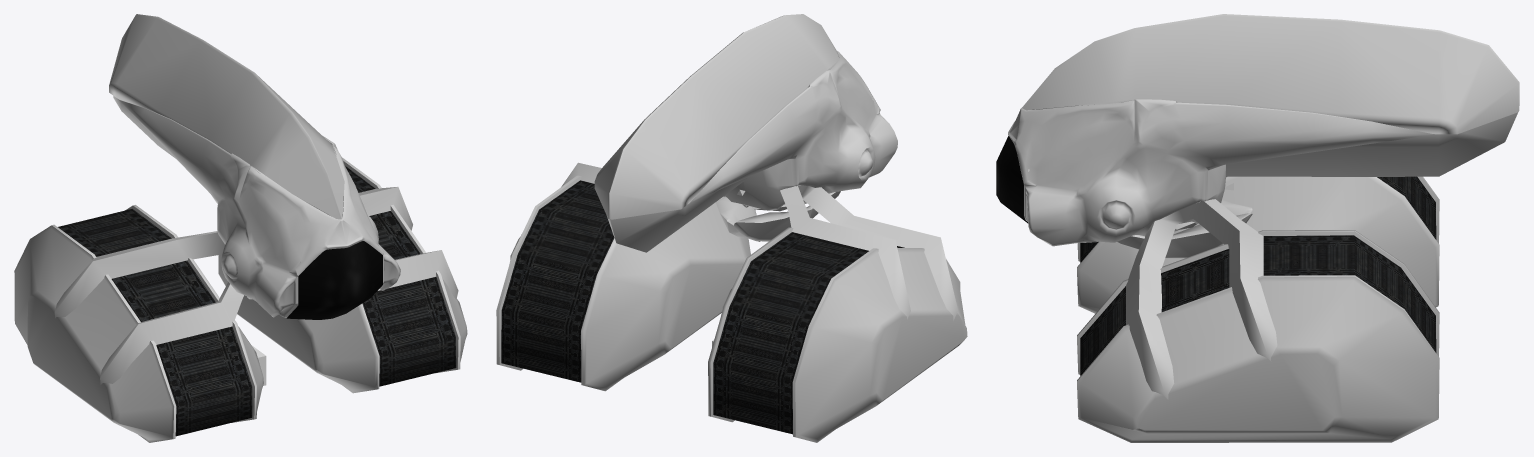
Rendered from fvscav00.fbx.
3 renders of one model, left to right at view 1: azimuth 30°, elevation 25°; view 2: azimuth 150°, elevation 25°; view 3: azimuth 270°, elevation 25°, orthographic. The views are drawn at different scales.
Visible parts, largest first — view 1: tread_r, skel_FLUID_Top1, main_body, tractor_r, tread_l, tractor_l, cockpit; view 2: tread_r, skel_FLUID_Top1, tread_l, tractor_r, main_body, tractor_l, fvscav_skel_FLUID_SACK2_3, Front_Pincer_r, Front_Pincer_l; view 3: tread_l, skel_FLUID_Top1, main_body, tread_r, tractor_l, fvscav_skel_FLUID_SACK2_3, cockpit, Front_Pincer_l, tractor_r.
Boxes of the visible parts, <box> form: tread_r: <box>14,205,263,442</box>; skel_FLUID_Top1: <box>109,14,344,219</box>; main_body: <box>119,100,400,317</box>; tractor_r: <box>58,208,252,436</box>; tread_l: <box>218,157,467,393</box>; tractor_l: <box>345,166,456,386</box>; cockpit: <box>286,241,382,319</box>; tread_r: <box>708,185,967,442</box>; skel_FLUID_Top1: <box>594,14,839,219</box>; tread_l: <box>496,162,750,391</box>; tractor_r: <box>713,232,904,434</box>; main_body: <box>692,51,897,210</box>; tractor_l: <box>501,180,614,382</box>; fvscav_skel_FLUID_SACK2_3: <box>607,177,747,252</box>; Front_Pincer_r: <box>734,191,840,241</box>; Front_Pincer_l: <box>715,196,760,241</box>; tread_l: <box>1077,199,1439,442</box>; skel_FLUID_Top1: <box>1022,14,1519,134</box>; main_body: <box>1008,99,1434,246</box>; tread_r: <box>1077,176,1439,313</box>; tractor_l: <box>1080,235,1436,375</box>; fvscav_skel_FLUID_SACK2_3: <box>1226,112,1517,176</box>; cockpit: <box>996,136,1028,223</box>; Front_Pincer_l: <box>1117,213,1252,258</box>; tractor_r: <box>1080,176,1436,262</box>.
Size of the model in its own units: 8.65 by 7.32 by 9.6.
